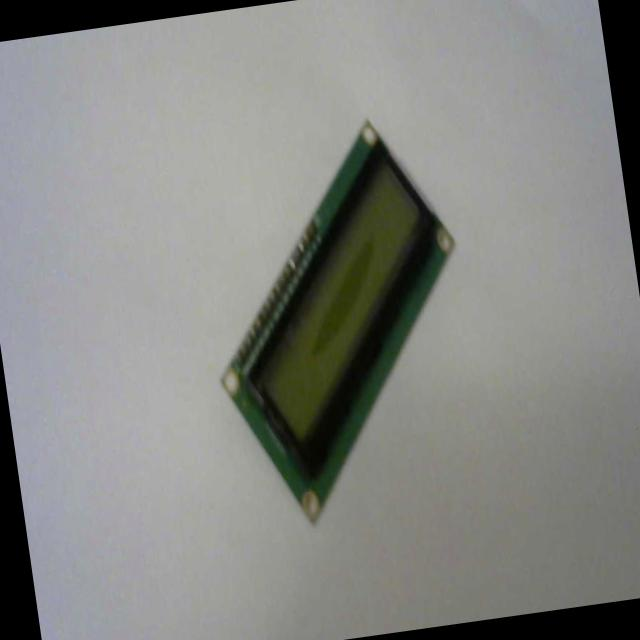lcd: (186, 106, 492, 535)
